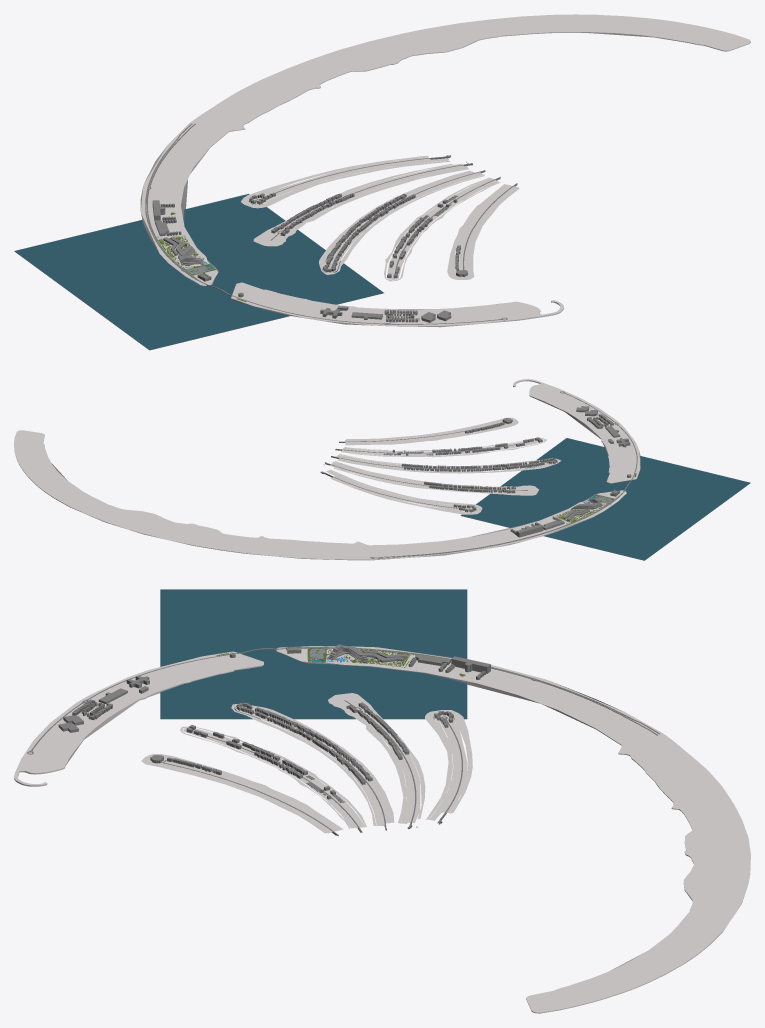
File: SLS_Ground.glb
3 renders of one model, top to bottom at view 1: azimuth 30°, elevation 25°; view 2: azimuth 150°, elevation 25°; view 3: azimuth 270°, elevation 25°, orthographic. The views are drawn at different scales.
Parts seen in each view (by area): view 1: build, ocean, road; view 2: build, ocean, road; view 3: build, ocean, road.
Part boxes in pixels (x1,y1,x2,y2): build: (14, 14, 750, 350); ocean: (14, 194, 383, 349); road: (145, 123, 517, 324); build: (14, 379, 750, 560); ocean: (461, 438, 750, 560); road: (320, 391, 637, 558); build: (14, 590, 750, 1013); ocean: (160, 589, 467, 718); road: (27, 646, 659, 835).
Bounding box in the file's own units: 6540 × 63.24 × 4804.
10 materials, 9 textured.
